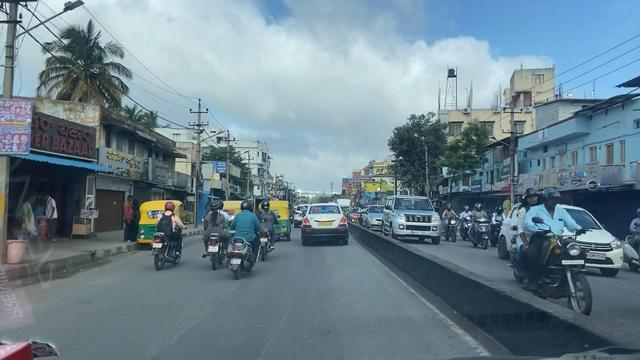LMV: (226, 195, 254, 283), (301, 202, 348, 247), (257, 198, 279, 268)
RoadDamages: (254, 303, 289, 357)
